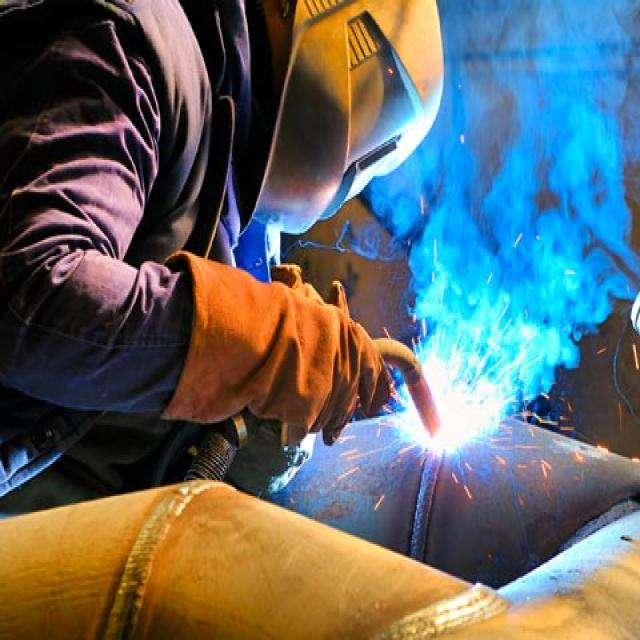welding: (406, 385, 491, 440), (440, 385, 490, 440)
